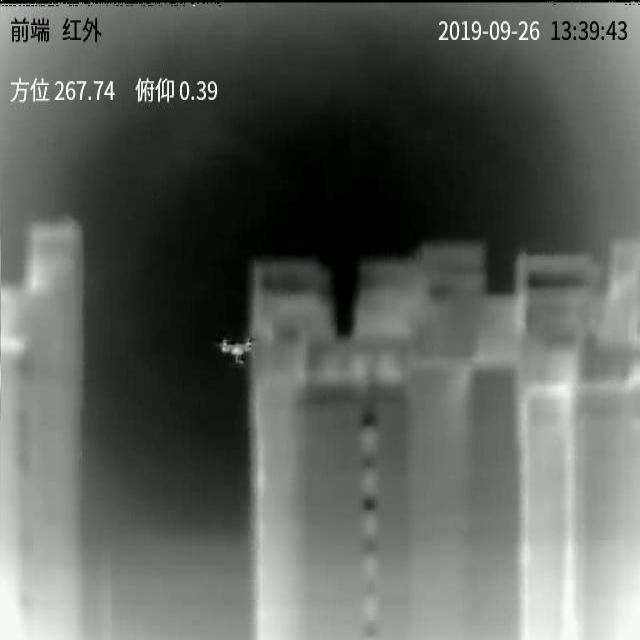drone: (216, 337, 256, 364)
